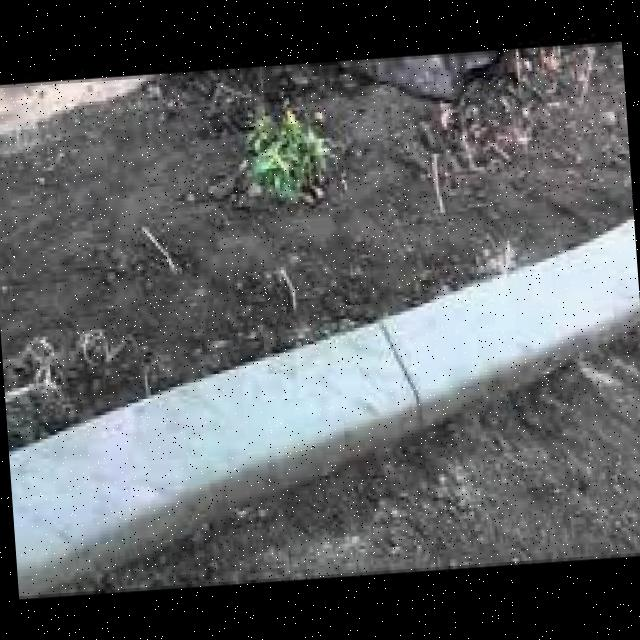curb: (375, 258, 640, 417), (11, 423, 251, 583), (223, 356, 437, 472)
